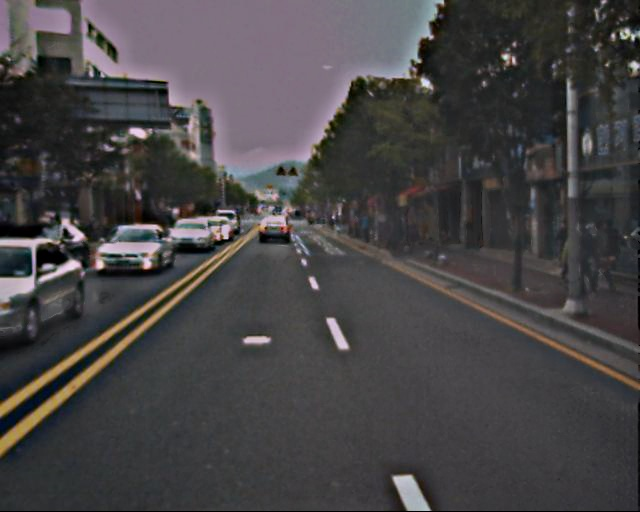person: (566, 215, 603, 296), (584, 218, 619, 293), (551, 221, 578, 280)
